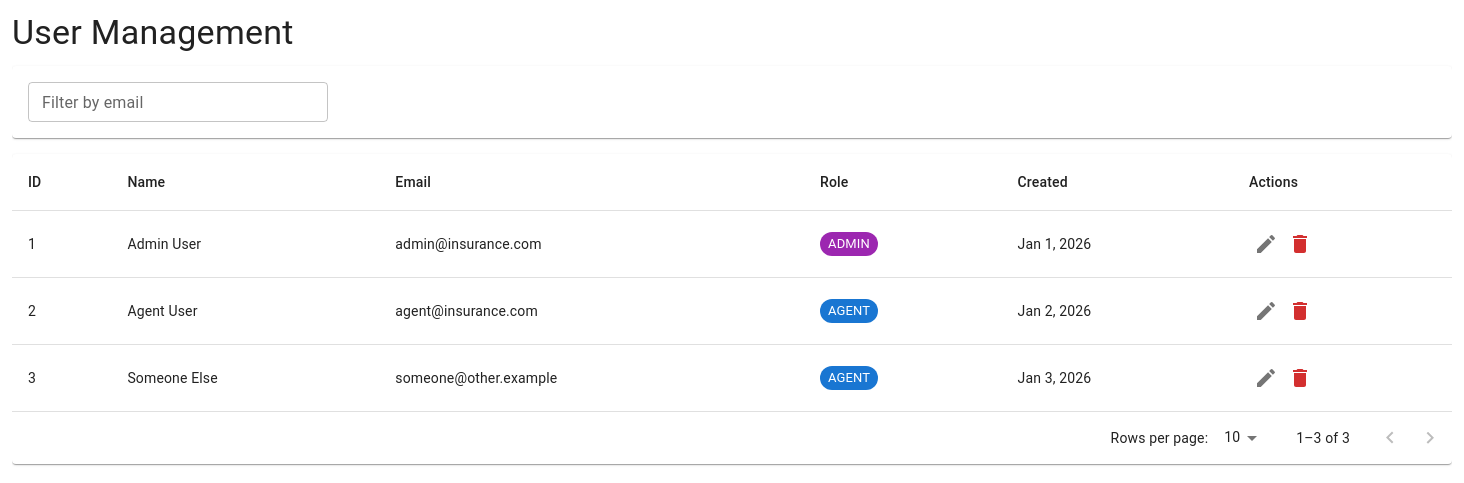
Test: UserManagement email filter › renders an explicit empty state when a filtered search matches nothing
Expected: the text "admin@insurance.com" is shown, [379,210,804,277]
Step 1. Type "nobody@nowhere.example" into the field labelled "Filter by email" → (178, 102), box [28,82,328,122]
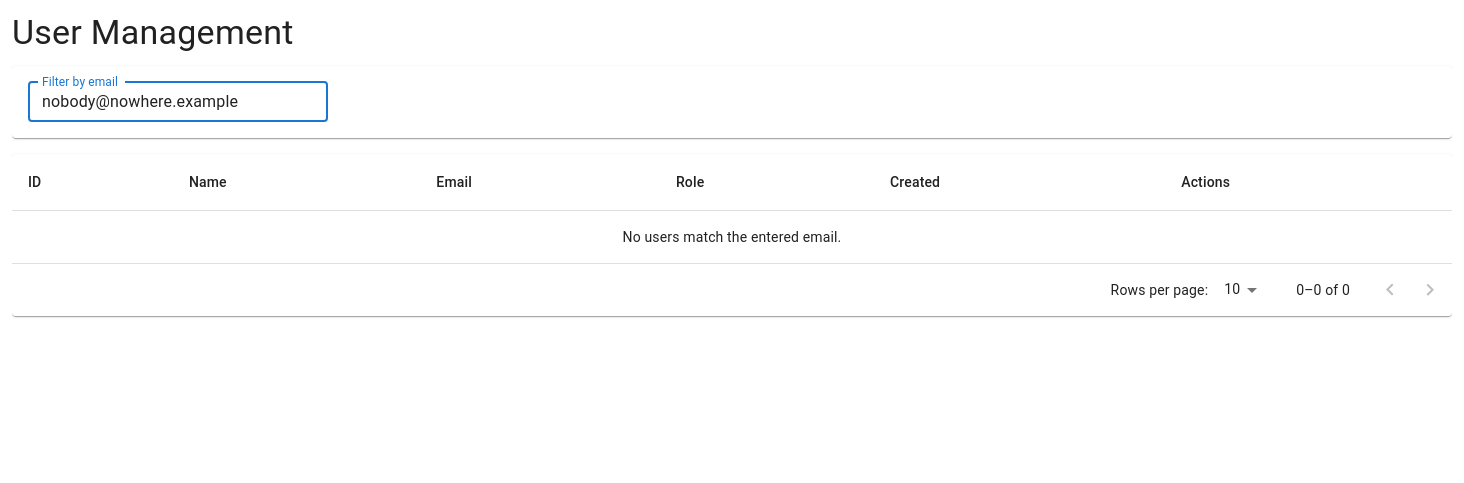
Expected: the text "No users match the entered email." is shown, [12,210,1452,263]
